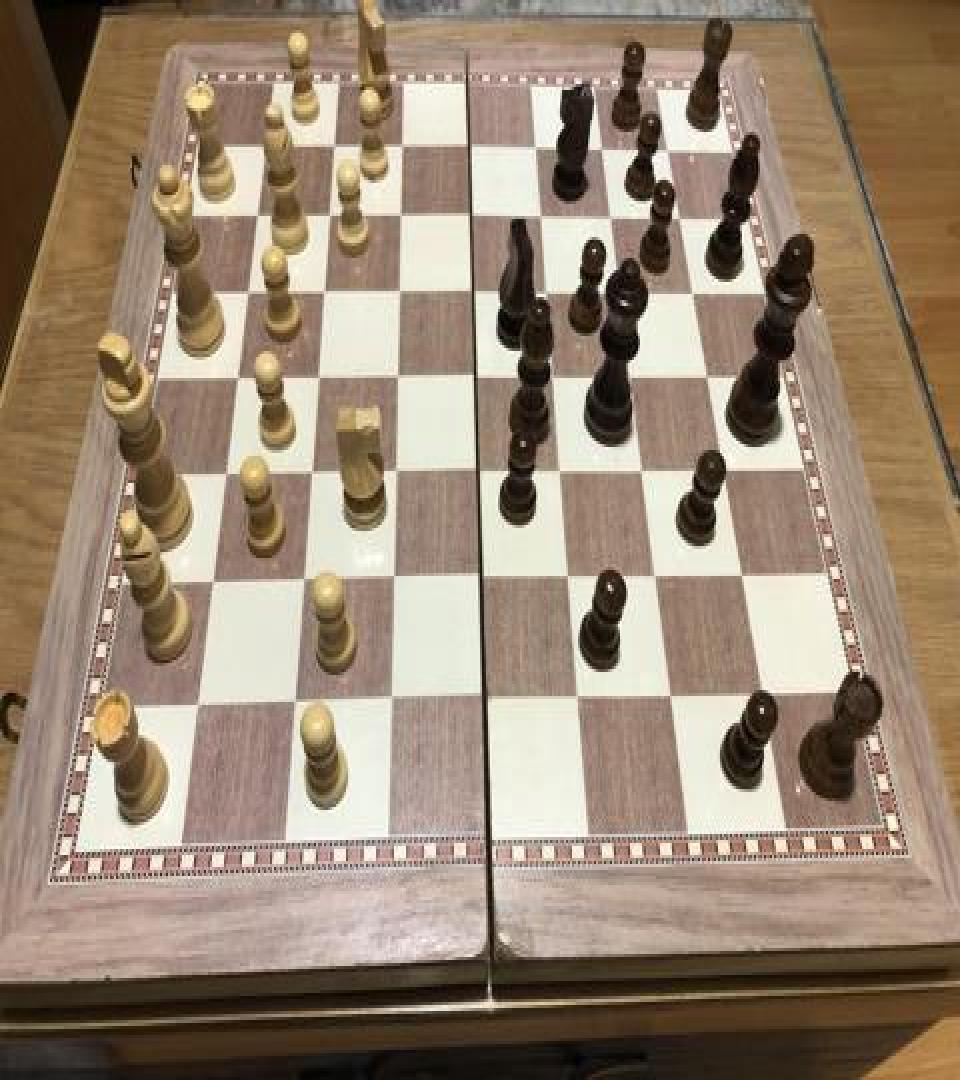xcorner: (468, 454, 494, 494), (384, 454, 410, 494), (299, 454, 325, 494), (382, 562, 408, 602), (751, 676, 777, 716), (474, 682, 500, 722), (185, 688, 211, 728), (658, 132, 684, 171), (592, 131, 618, 170), (526, 129, 552, 168), (459, 129, 485, 168), (323, 126, 349, 165), (254, 125, 280, 164), (531, 198, 557, 237), (461, 198, 487, 237), (390, 197, 416, 236), (318, 197, 344, 236), (245, 195, 271, 234), (683, 276, 709, 315), (610, 274, 636, 313), (537, 274, 563, 313), (463, 274, 489, 313), (388, 273, 414, 312), (312, 273, 338, 312), (236, 273, 262, 312), (697, 358, 723, 397), (621, 358, 647, 397), (543, 358, 569, 397), (465, 358, 491, 397), (386, 358, 412, 397), (306, 358, 332, 397), (226, 358, 252, 397), (713, 453, 739, 492), (632, 453, 658, 492), (551, 453, 577, 492), (214, 456, 240, 495), (731, 558, 757, 597), (645, 558, 671, 597), (559, 559, 585, 598), (471, 561, 497, 600), (292, 564, 318, 603), (200, 564, 226, 603), (660, 678, 686, 717), (568, 680, 594, 719), (379, 684, 405, 723), (283, 687, 309, 726), (391, 128, 417, 166), (670, 200, 696, 238), (601, 200, 627, 238)
